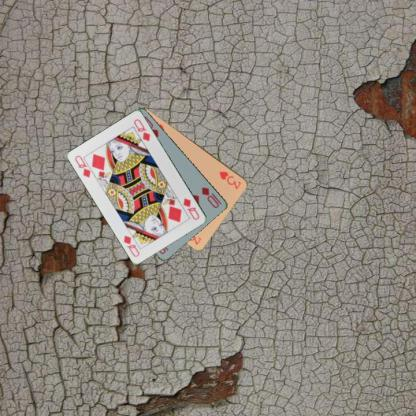10d: (199, 184, 223, 209)
3h: (216, 168, 242, 191)
Qd: (72, 152, 97, 178), (181, 196, 201, 222)
